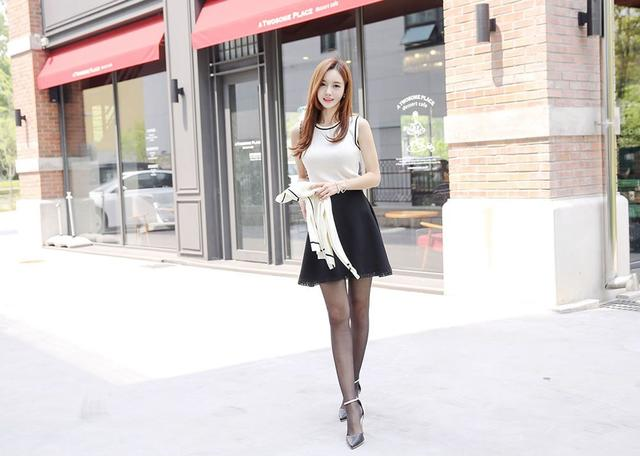person: (234, 39, 413, 419)
